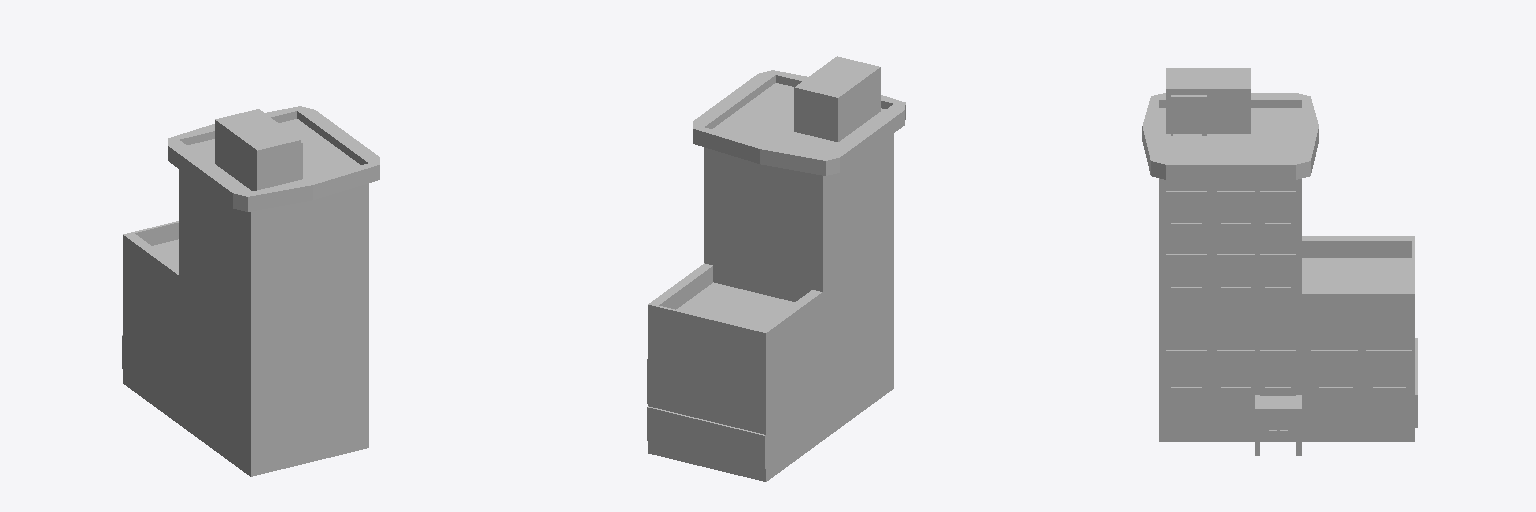
File: building_2.obj
3 views of the same model, side by side, from view 1: azimuth 30°, elevation 25°; view 2: azimuth 150°, elevation 25°; view 3: azimuth 270°, elevation 25° (orthographic).
Visible parts, largest first — view 1: pCube1; view 2: pCube1; view 3: pCube1.
Part boxes in pixels (x1,y1,x2,y2): pCube1: (122,106,379,476); pCube1: (647,56,905,481); pCube1: (1142,68,1417,455).
Bounding box in the file's own units: 10.81 × 20.7 × 16.04.